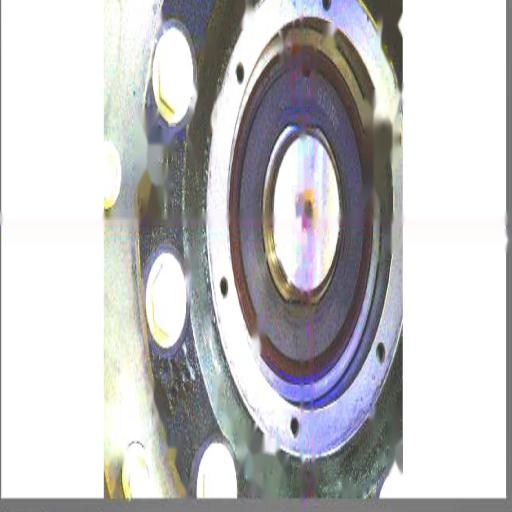center: (302, 200, 316, 228)
notch: (301, 66, 313, 88)
